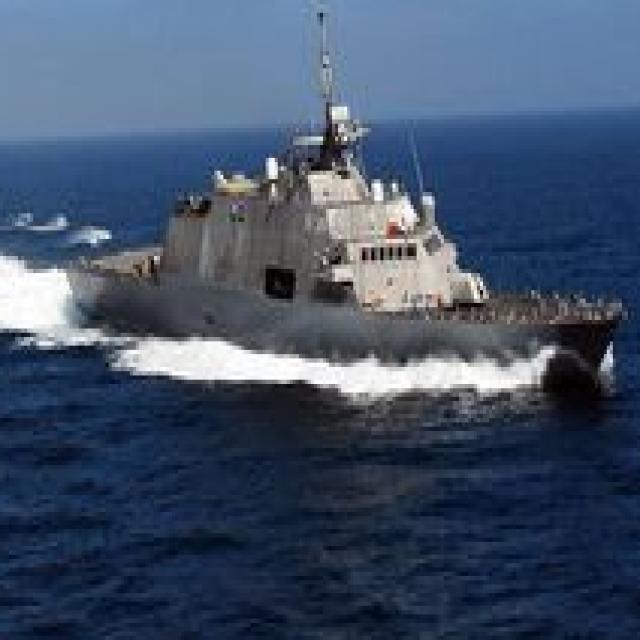navalvessels: (62, 41, 632, 392)
